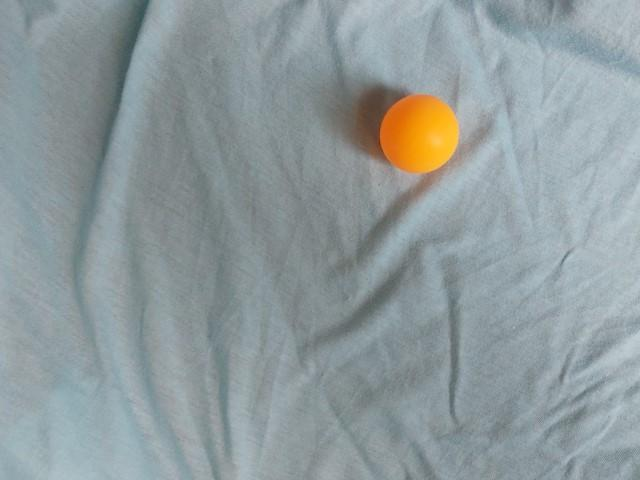oball: (175, 304, 265, 391)
